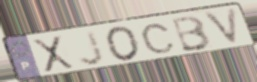B: (171, 14, 213, 53)
C: (139, 22, 177, 55)
J: (77, 29, 107, 66)
O: (104, 25, 142, 63)
V: (201, 6, 242, 49)
X: (30, 34, 77, 75)
